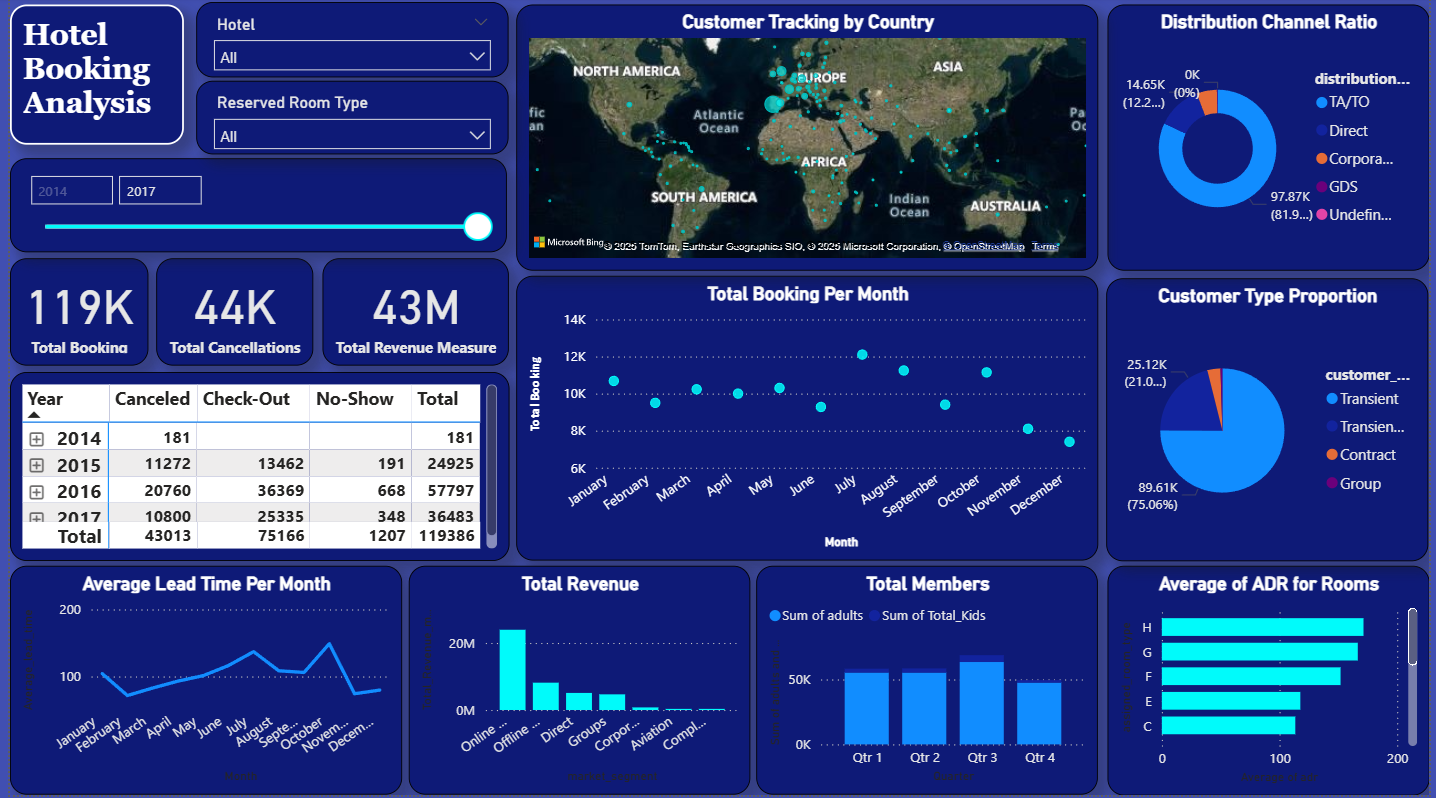

This screenshot's page, from the dashboard's own definition file:
{"tool":"powerbi","page":{"name":"Dashboard","canvas":[1280,720],"ordinal":0},"visuals":[{"type":"card","fields":{"Values":["Calculated_Measures.Total_Booking"]},"box":[0,235.7,125,96.7],"z":0},{"type":"card","fields":{"Values":["Calculated_Measures.Total_Cancellations"]},"box":[131.7,235.7,141.7,96.7],"z":1000},{"type":"card","fields":{"Values":["Calculated_Measures.Total_Revenue_measure"]},"box":[281.7,235.7,168.3,96.7],"z":2000},{"type":"pivotTable","fields":{"Rows":["Hotel_Booking.reservation_status_date.Variation.Date Hierarchy.Year","Hotel_Booking.reservation_status_date.Variation.Date Hierarchy.Month"],"Columns":["Hotel_Booking.reservation_status"],"Values":["CountNonNull(Hotel_Booking.reservation_status)"]},"box":[0,338.3,450,170],"z":3000},{"type":"lineChart","title":"Average Lead Time Per Month","fields":{"Category":["Hotel_Booking.reservation_status_date.Variation.Date Hierarchy.Month"],"Y":["Calculated_Measures.Average_lead_time"]},"box":[0,513.3,353.3,206.7],"z":4000},{"type":"scatterChart","title":"Total Booking Per Month","fields":{"Y":["Calculated_Measures.Total_Booking"],"X":["Hotel_Booking.reservation_status_date.Variation.Date Hierarchy.Month"]},"box":[456.7,251.7,525,256.7],"z":5000},{"type":"clusteredColumnChart","title":"Total Revenue","fields":{"Category":["Hotel_Booking.market_segment"],"Y":["Calculated_Measures.Total_Revenue_measure"]},"box":[360,513.3,308.3,206.7],"z":6000},{"type":"columnChart","title":"Total Members","fields":{"Category":["Hotel_Booking.reservation_status_date.Variation.Date Hierarchy.Quarter"],"Y":["Sum(Hotel_Booking.adults)","Sum(Hotel_Booking.Total_Kids)"]},"box":[673.3,513.3,308.3,206.7],"z":7000},{"type":"clusteredBarChart","title":"Average of ADR for Rooms","fields":{"Category":["Hotel_Booking.assigned_room_type"],"Y":["Avg(Hotel_Booking.adr)"]},"box":[990,512.9,290,207.1],"z":8000},{"type":"pieChart","title":"Customer Type Proportion","fields":{"Category":["Hotel_Booking.customer_type"],"Y":["CountNonNull(Hotel_Booking.customer_type)"]},"box":[988.3,253.3,290,255],"z":9000},{"type":"donutChart","title":"Distribution Channel Ratio","fields":{"Y":["CountNonNull(Hotel_Booking.distribution_channel)"],"Category":["Hotel_Booking.distribution_channel"]},"box":[990,6.7,290,240],"z":10000},{"type":"map","title":"Customer Tracking by Country","fields":{"Category":["Hotel_Booking.country"],"Size":["CountNonNull(Hotel_Booking.country)"]},"box":[456.7,6.7,525,240],"z":11000},{"type":"textbox","box":[0,6.7,156.7,126.7],"z":11001},{"type":"slicer","fields":{"Values":["Hotel_Booking.reservation_status_date.Variation.Date Hierarchy.Year"]},"box":[0,145,448.3,85],"z":11002},{"type":"slicer","fields":{"Values":["Hotel_Booking.hotel"]},"box":[168.3,5,281.7,68.3],"z":11003},{"type":"slicer","fields":{"Values":["Hotel_Booking.reserved_room_type"]},"box":[168.3,75,281.7,66.7],"z":11004}]}

Visuals, with their boxes in screenshot pixels (x1, y1, x2, y2), scaled from the page's 1280x720 canvas onto the 1436x798 screenshot:
card - Calculated_Measures.Total_Booking: (0, 261, 140, 368)
card - Calculated_Measures.Total_Cancellations: (148, 261, 307, 368)
card - Calculated_Measures.Total_Revenue_measure: (316, 261, 505, 368)
pivotTable - Hotel_Booking.reservation_status_date.Variation.Date Hierarchy.Year x Hotel_Booking.reservation_status_date.Variation.Date Hierarchy.Month: (0, 375, 505, 563)
"Average Lead Time Per Month" lineChart: (0, 569, 396, 797)
"Total Booking Per Month" scatterChart: (512, 279, 1101, 563)
"Total Revenue" clusteredColumnChart: (404, 569, 750, 797)
"Total Members" columnChart: (755, 569, 1101, 797)
"Average of ADR for Rooms" clusteredBarChart: (1111, 568, 1435, 797)
"Customer Type Proportion" pieChart: (1109, 281, 1434, 563)
"Distribution Channel Ratio" donutChart: (1111, 7, 1435, 273)
"Customer Tracking by Country" map: (512, 7, 1101, 273)
textbox: (0, 7, 176, 148)
slicer - Hotel_Booking.reservation_status_date.Variation.Date Hierarchy.Year: (0, 161, 503, 255)
slicer - Hotel_Booking.hotel: (189, 6, 505, 81)
slicer - Hotel_Booking.reserved_room_type: (189, 83, 505, 157)
